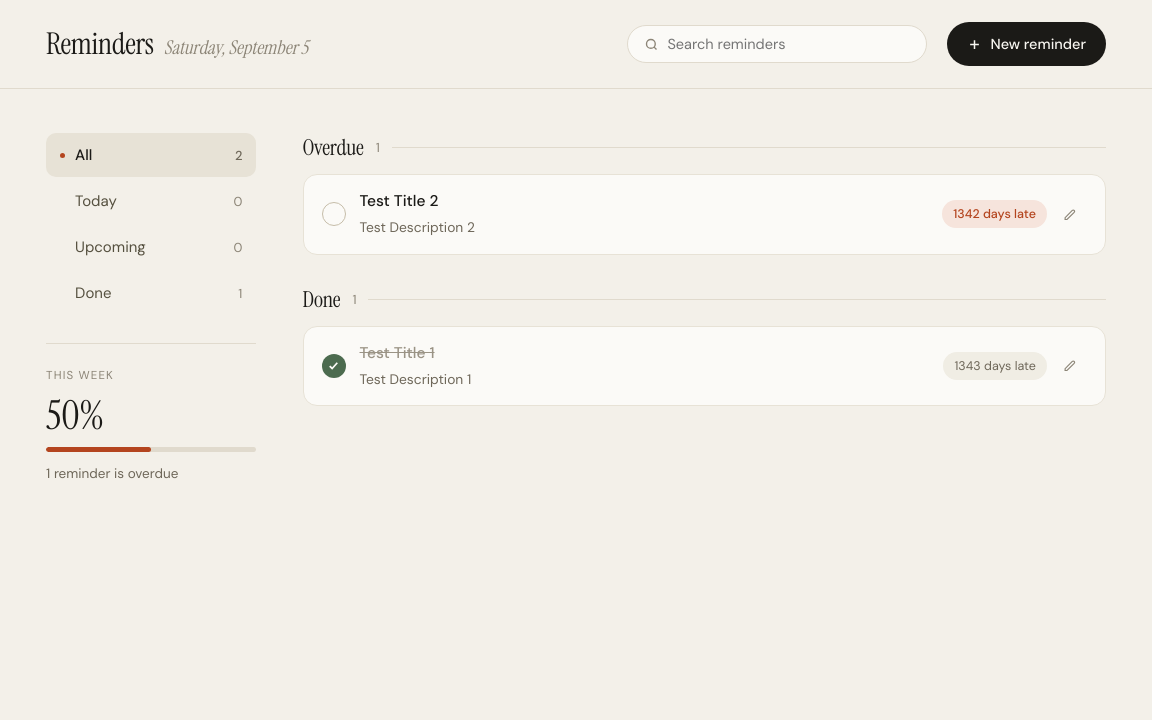
Test case: RemindersList › creates a reminder from the sheet and refreshes the list
The image size is (1152, 720).
Click the button "New reminder".
click(1027, 44)  # box [947, 22, 1106, 66]
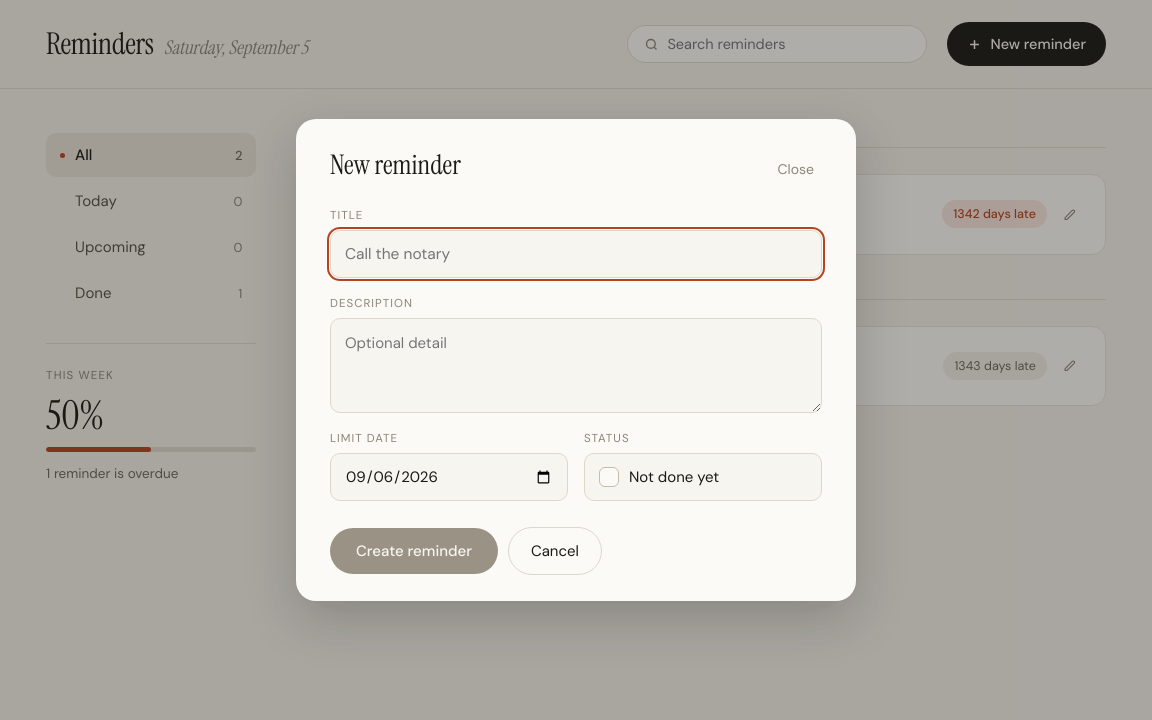
Type "Buy milk" into the field with test id "title".
click(576, 254); type("Buy milk")  # box [330, 230, 822, 278]
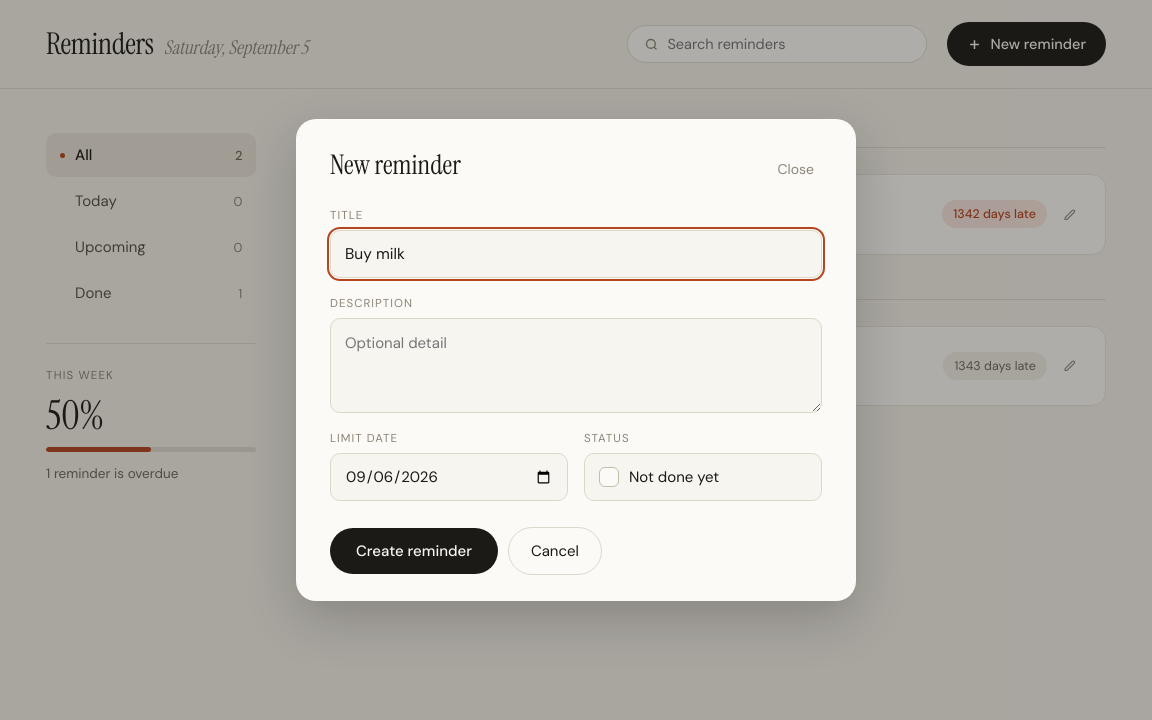
Click the button with test id "save-button".
click(414, 551)  # box [330, 528, 498, 574]
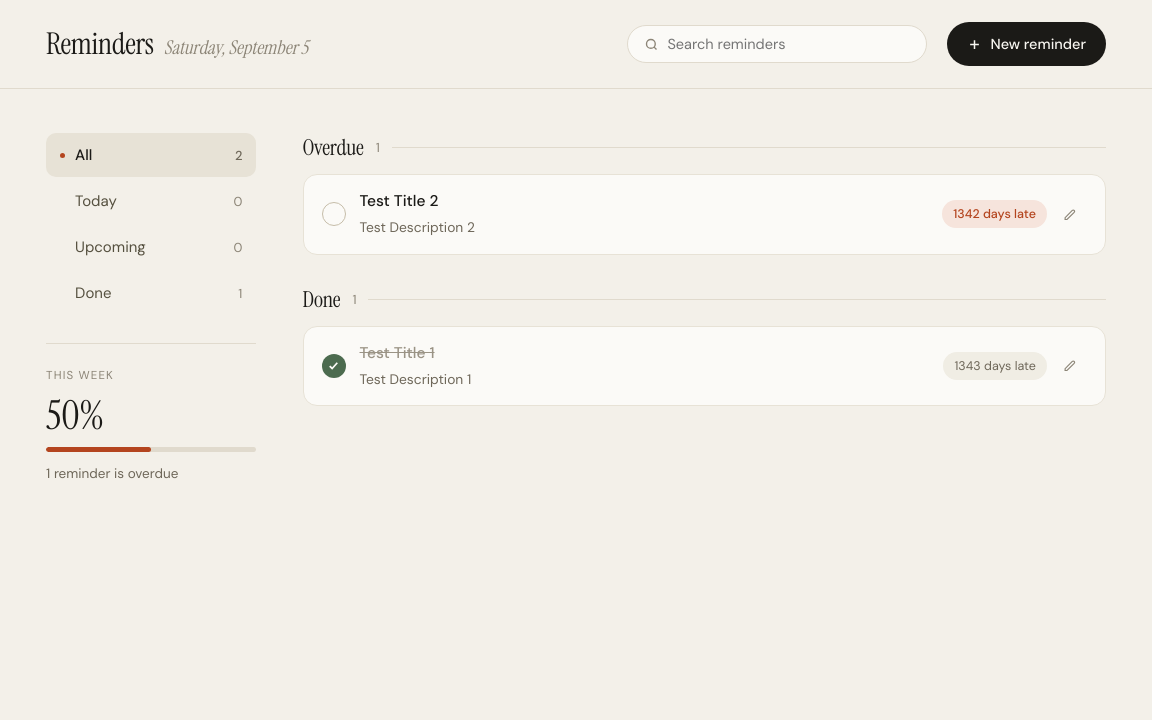
Expected: the dialog is gone
